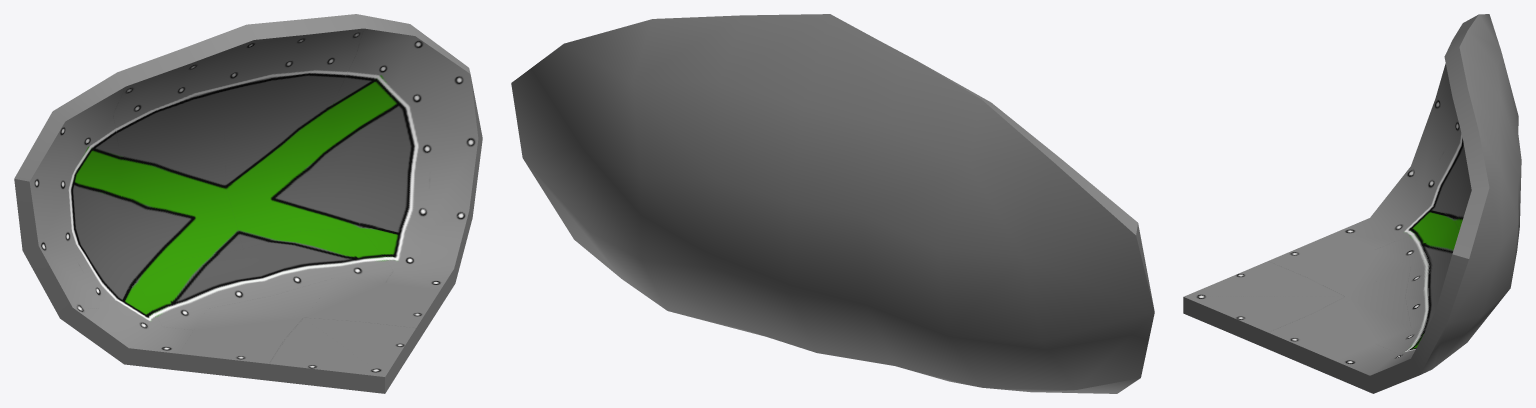
Rendered from space_concave_halfcorner.gltf.
3 renders of one model, left to right at view 1: azimuth 30°, elevation 25°; view 2: azimuth 150°, elevation 25°; view 3: azimuth 270°, elevation 25°, orthographic. The views are drawn at different scales.
Parts seen in each view (by area): view 1: space_concave_halfcorner_glb; view 2: space_concave_halfcorner_glb; view 3: space_concave_halfcorner_glb.
Part boxes in pixels (bbox=[...]): space_concave_halfcorner_glb: bbox=[14, 14, 482, 393]; space_concave_halfcorner_glb: bbox=[511, 14, 1154, 393]; space_concave_halfcorner_glb: bbox=[1183, 14, 1521, 393].
Size of what is drawn, in the model's own units: 6.97 by 3.87 by 4.46.
1 material, 1 textured.
